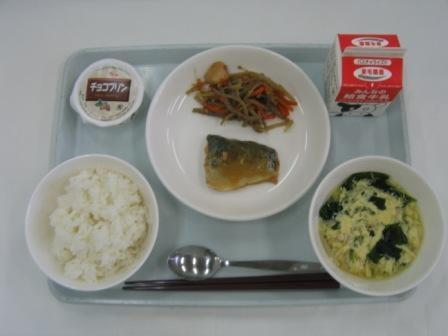Cup desserts: (61, 55, 160, 131)
Fish: (193, 126, 292, 202)
Milk: (319, 25, 414, 134)
Rice: (21, 160, 171, 294)
Soups: (307, 160, 437, 300)
salad with sauce: (180, 62, 303, 129)
